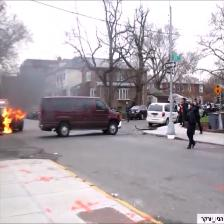fire: (0, 100, 34, 138)
